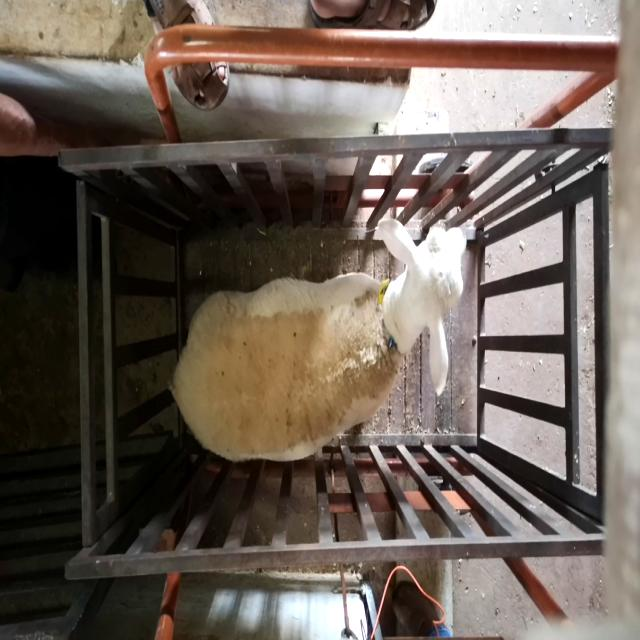sheep: (169, 218, 467, 464)
